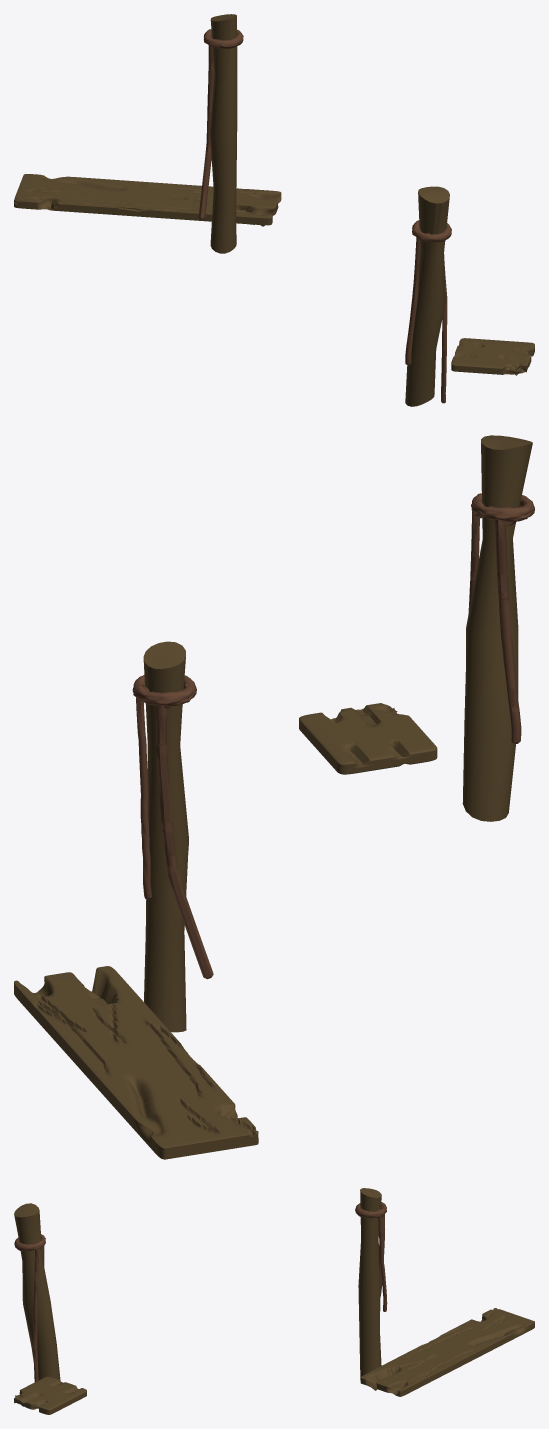
Rendered from pfosten-bruecke.fbx.
3 views of the same model, one above another, from view 1: azimuth 30°, elevation 25°; view 2: azimuth 150°, elevation 25°; view 3: azimuth 270°, elevation 25° (orthographic). The views are drawn at different scales.
Visible parts, largest first — view 1: Cube_2, Cylinder_2, Cylinder, Cube_1, Sweep_8, Sweep_4, Sweep; view 2: Cube_2, Cylinder, Cylinder_2, Cube_1, Sweep_8, Sweep_4, Sweep_6, Torus_4, Torus; view 3: Cube_2, Cylinder, Cylinder_2, Cube_1, Sweep, Sweep_6, Torus_4.
Boxes of the visible parts, bbox=[...] form: Cube_2: bbox=[14, 174, 281, 226]; Cylinder_2: bbox=[210, 14, 237, 253]; Cylinder: bbox=[405, 186, 449, 406]; Cube_1: bbox=[451, 338, 534, 375]; Sweep_8: bbox=[198, 38, 236, 219]; Sweep_4: bbox=[405, 238, 420, 365]; Sweep: bbox=[441, 261, 447, 403]; Cube_2: bbox=[14, 966, 258, 1159]; Cylinder: bbox=[462, 435, 532, 821]; Cylinder_2: bbox=[143, 641, 188, 1032]; Cube_1: bbox=[299, 703, 437, 774]; Sweep_8: bbox=[143, 678, 213, 979]; Sweep_4: bbox=[495, 520, 521, 743]; Sweep_6: bbox=[136, 683, 185, 899]; Torus_4: bbox=[132, 675, 196, 706]; Torus: bbox=[471, 493, 534, 521]; Cube_2: bbox=[360, 1308, 534, 1396]; Cylinder: bbox=[14, 1203, 60, 1380]; Cylinder_2: bbox=[358, 1188, 381, 1380]; Cube_1: bbox=[14, 1376, 86, 1414]; Sweep: bbox=[33, 1242, 45, 1381]; Sweep_6: bbox=[378, 1209, 387, 1311]; Torus_4: bbox=[355, 1202, 386, 1218].
Size of the model in its own units: 170 by 160 by 379.
